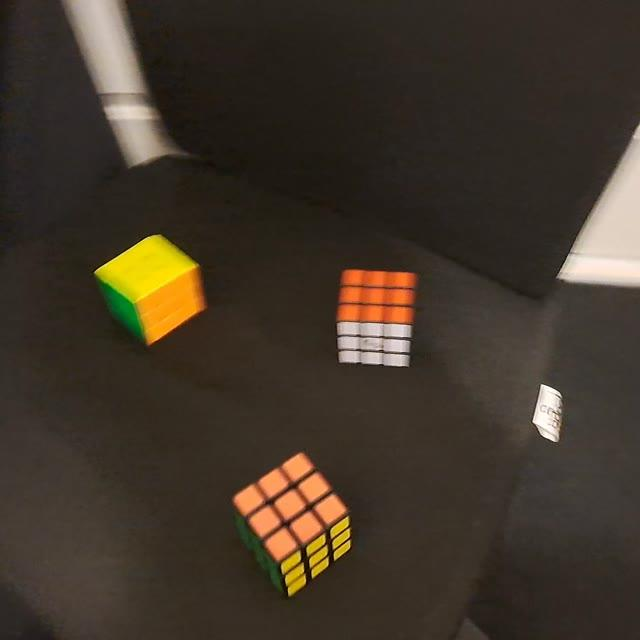rubix_cube: (230, 448, 355, 600), (89, 229, 209, 349), (333, 267, 419, 373)
